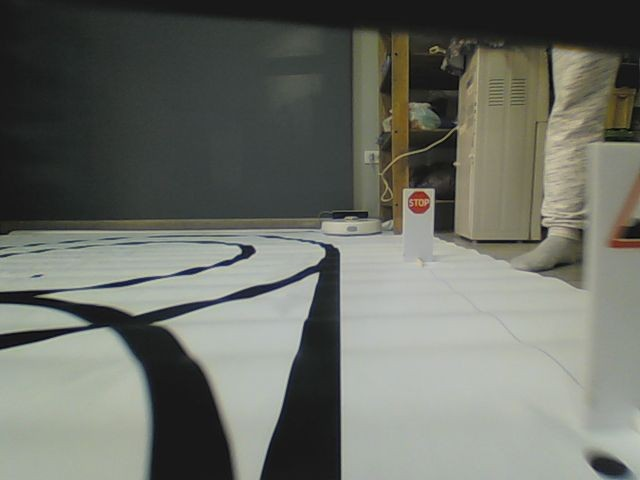Stop: (408, 191, 431, 215)
